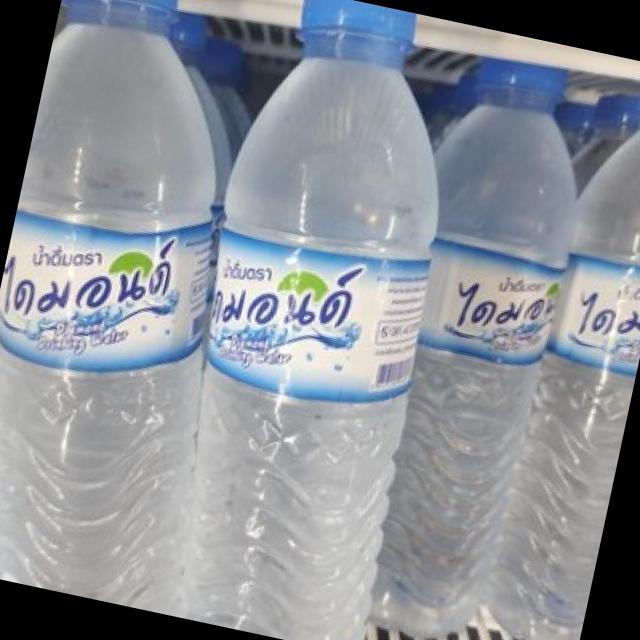plastic_bottle: (136, 0, 493, 640), (0, 0, 314, 617), (324, 44, 607, 640), (472, 70, 640, 640)
